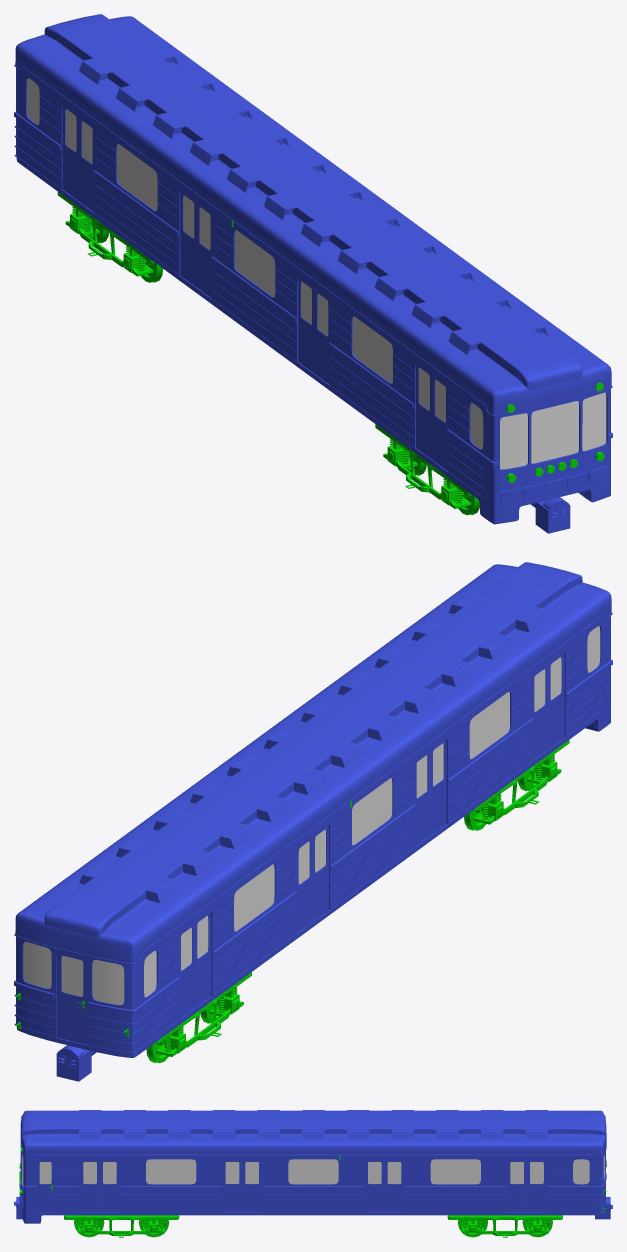
File: train_low.fbx
The picture shows the model from 3 angles, top to bottom: view 1: azimuth 30°, elevation 25°; view 2: azimuth 150°, elevation 25°; view 3: azimuth 270°, elevation 25°; orthographic projection. The views are drawn at different scales.
Parts seen in each view (by area): view 1: train main part_low|roof cherpak_low|Dupli|23, train main part_low|roof cherpak_low.001|Dupli|24, train main part_low|side wall_low|Dupli|4.33, train main part_low|side wall_low|Dupli|4.35, train main part_low|side wall_low|Dupli|4.31, train head part_low|head wall glass_low|Dupli|0.3, train tail part_low|side wall tail_low|Dupli|4.1, train head part_low|side wall head_low|Dupli|3.5, train head part_low|roof tail part_low|Dupli|4, train head part_low|roof tail part_low.007|Dupli|6, train head part_low|head wall mask_low.002|Dupli|7.3, train tail part_low|roof tail part_low|Dupli|4.3 (+22 smaller); view 2: train main part_low|roof cherpak_low|Dupli|23, train main part_low|roof cherpak_low.001|Dupli|24, train main part_low|side wall_low|Dupli|4.33, train main part_low|side wall_low|Dupli|4.31, train main part_low|side wall_low|Dupli|4.35, train tail part_low|tail wall_low|Dupli|13.2, train head part_low|side wall head_low|Dupli|3.5, train tail part_low|side wall tail_low|Dupli|4.1, train tail part_low|tail wall roof_low|Dupli|12.2, train tail part_low|roof tail part_low|Dupli|4.3, train tail part_low|tail wall glass_low|Dupli|0.2, train head part_low|roof tail part_low|Dupli|4 (+20 smaller); view 3: train main part_low|roof cherpak_low|Dupli|23, train main part_low|side wall_low|Dupli|4.30, train main part_low|side wall_low|Dupli|4.32, train main part_low|side wall_low|Dupli|4.34, train main part_low|roof cherpak_low.001|Dupli|24, train tail part_low|side wall tail_low|Dupli|4, train head part_low|side wall head door_low|Dupli|3.2, train main part_low|side wall glass_low|Dupli|0.30, train main part_low|side wall glass_low|Dupli|0.32, train main part_low|side wall glass_low|Dupli|0.34, train main part_low|wheel block corpus_hi.003|Dupli|10.16, train main part_low|wheel block corpus_hi.003|Dupli|10.17 (+42 smaller).
Part boxes in pixels (left/top/right/bottom): train main part_low|roof cherpak_low|Dupli|23: left=59, top=46, right=564, bottom=377; train main part_low|roof cherpak_low.001|Dupli|24: left=79, top=43, right=547, bottom=354; train main part_low|side wall_low|Dupli|4.33: left=94, top=120, right=178, bottom=274; train main part_low|side wall_low|Dupli|4.35: left=329, top=293, right=413, bottom=447; train main part_low|side wall_low|Dupli|4.31: left=212, top=207, right=295, bottom=361; train head part_low|head wall glass_low|Dupli|0.3: left=500, top=392, right=606, bottom=469; train tail part_low|side wall tail_low|Dupli|4.1: left=18, top=67, right=60, bottom=188; train head part_low|side wall head_low|Dupli|3.5: left=447, top=379, right=489, bottom=502; train head part_low|roof tail part_low|Dupli|4: left=448, top=329, right=583, bottom=391; train head part_low|roof tail part_low.007|Dupli|6: left=500, top=344, right=582, bottom=391; train head part_low|head wall mask_low.002|Dupli|7.3: left=498, top=389, right=608, bottom=487; train tail part_low|roof tail part_low|Dupli|4.3: left=40, top=31, right=176, bottom=93; train main part_low|roof cherpak_low|Dupli|23: left=63, top=594, right=567, bottom=925; train main part_low|roof cherpak_low.001|Dupli|24: left=79, top=591, right=547, bottom=902; train main part_low|side wall_low|Dupli|4.33: left=213, top=841, right=297, bottom=995; train main part_low|side wall_low|Dupli|4.31: left=331, top=755, right=415, bottom=909; train main part_low|side wall_low|Dupli|4.35: left=449, top=668, right=532, bottom=822; train tail part_low|tail wall_low|Dupli|13.2: left=14, top=936, right=138, bottom=1054; train head part_low|side wall head_low|Dupli|3.5: left=566, top=615, right=609, bottom=736; train tail part_low|side wall tail_low|Dupli|4.1: left=137, top=927, right=179, bottom=1051; train tail part_low|tail wall roof_low|Dupli|12.2: left=14, top=911, right=138, bottom=964; train tail part_low|roof tail part_low|Dupli|4.3: left=43, top=878, right=179, bottom=939; train tail part_low|tail wall glass_low|Dupli|0.2: left=23, top=941, right=124, bottom=1004; train head part_low|roof tail part_low|Dupli|4: left=451, top=579, right=586, bottom=641; train main part_low|roof cherpak_low|Dupli|23: left=79, top=1110, right=547, bottom=1155; train main part_low|side wall_low|Dupli|4.30: left=263, top=1155, right=363, bottom=1212; train main part_low|side wall_low|Dupli|4.32: left=405, top=1155, right=505, bottom=1212; train main part_low|side wall_low|Dupli|4.34: left=121, top=1155, right=221, bottom=1212; train main part_low|roof cherpak_low.001|Dupli|24: left=79, top=1110, right=547, bottom=1138; train tail part_low|side wall tail_low|Dupli|4: left=548, top=1155, right=598, bottom=1212; train head part_low|side wall head door_low|Dupli|3.2: left=28, top=1155, right=78, bottom=1212; train main part_low|side wall glass_low|Dupli|0.30: left=288, top=1159, right=338, bottom=1184; train main part_low|side wall glass_low|Dupli|0.32: left=430, top=1159, right=480, bottom=1184; train main part_low|side wall glass_low|Dupli|0.34: left=146, top=1159, right=196, bottom=1184; train main part_low|wheel block corpus_hi.003|Dupli|10.16: left=447, top=1215, right=562, bottom=1237; train main part_low|wheel block corpus_hi.003|Dupli|10.17: left=64, top=1215, right=179, bottom=1237.
Size of the model in its own units: 295 by 379 by 1940.
